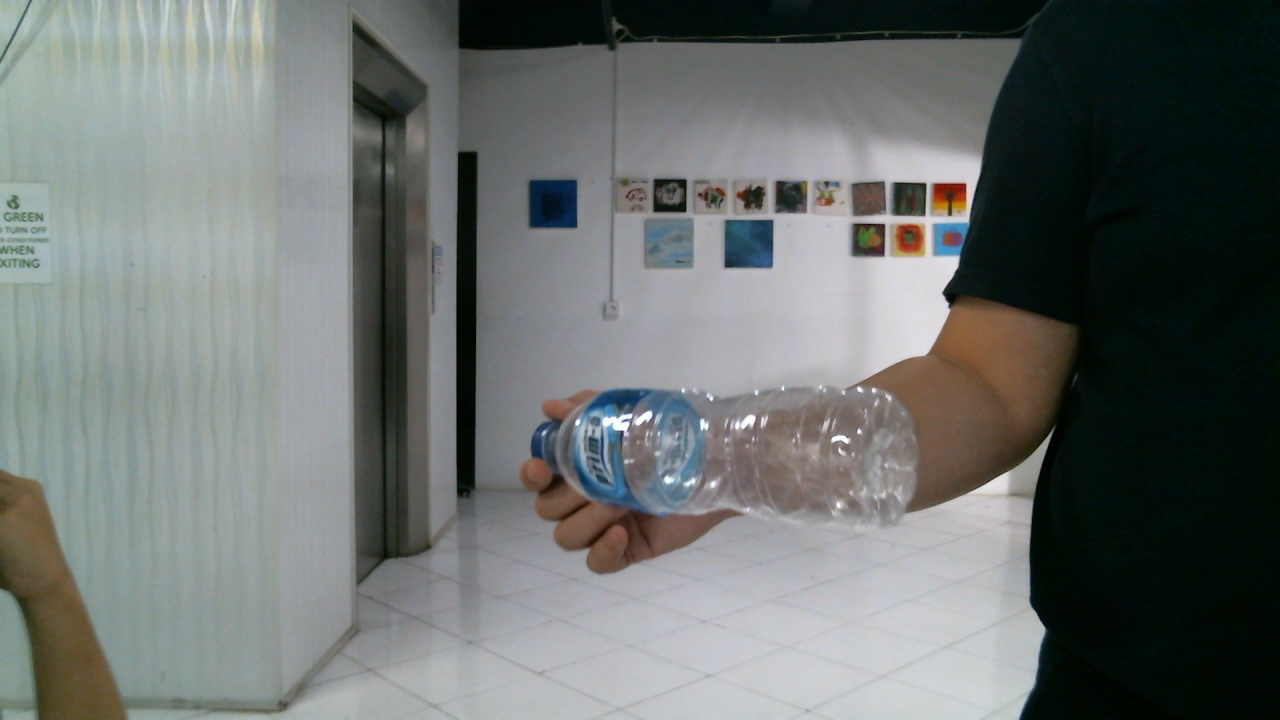Bottle: (518, 381, 910, 527)
